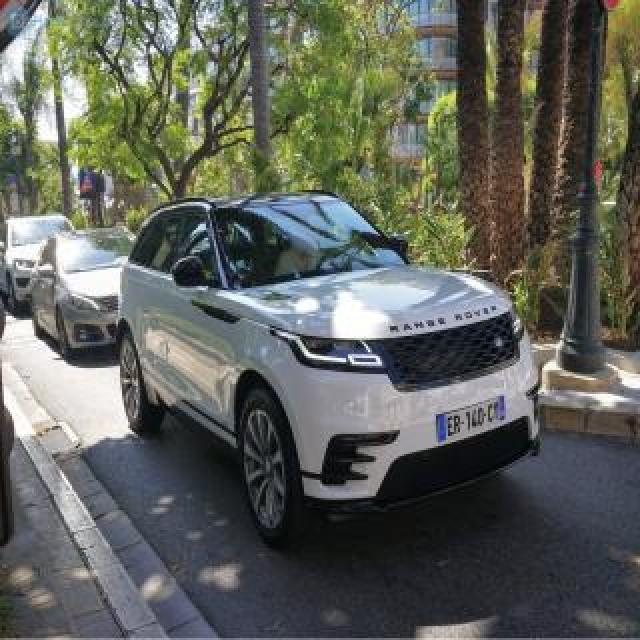Autre: (435, 395, 507, 443)
